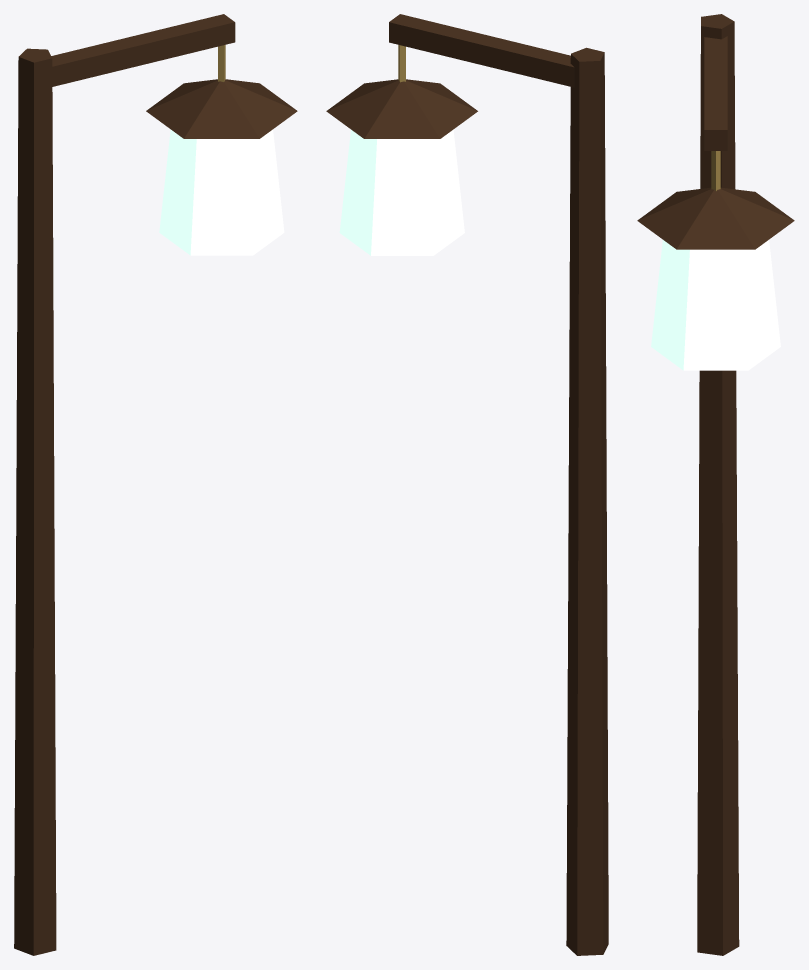
File: prop_sick_lantern.glb
3 views of the same model, side by side, from view 1: azimuth 30°, elevation 25°; view 2: azimuth 150°, elevation 25°; view 3: azimuth 270°, elevation 25° (orthographic). The views are drawn at different scales.
Visible parts, largest first — view 1: prop_sick_lantern; view 2: prop_sick_lantern; view 3: prop_sick_lantern.
Boxes of the visible parts, x1,y1,x2,y2 form: prop_sick_lantern: (14,14,297,955); prop_sick_lantern: (326,14,608,955); prop_sick_lantern: (637,14,794,955).
Bounding box in the file's own units: 0.6748 × 2.2 × 0.34.
